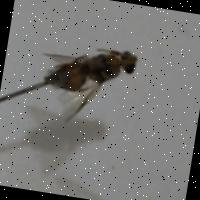Oriental-fruit-fly: (24, 19, 160, 146)
